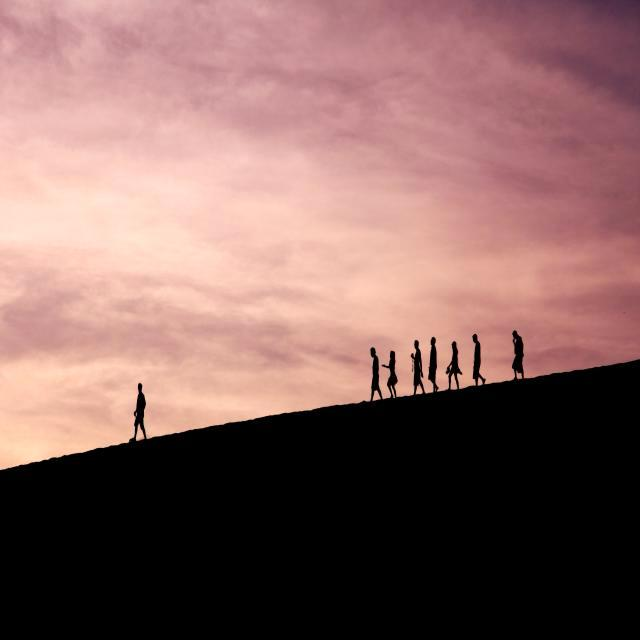no_head_wear: (512, 330, 520, 342), (430, 337, 436, 348), (370, 347, 376, 358), (390, 350, 395, 362), (414, 340, 419, 350), (472, 334, 478, 342), (452, 341, 457, 349), (138, 383, 142, 393)
person: (129, 383, 147, 442), (410, 340, 426, 396), (446, 341, 462, 390), (382, 351, 398, 398), (370, 347, 383, 402), (473, 334, 486, 386), (428, 337, 439, 393), (512, 331, 524, 380)
